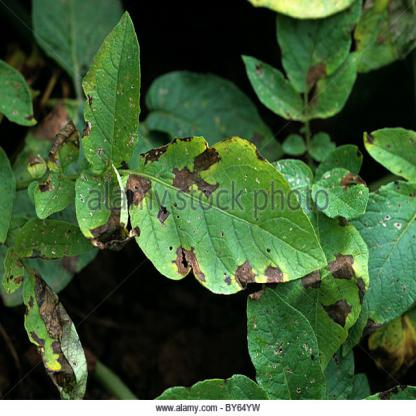Potato leaf early blight: (122, 133, 326, 289), (77, 10, 145, 173), (20, 265, 92, 398), (317, 216, 369, 366), (71, 160, 140, 262), (26, 116, 84, 223)
